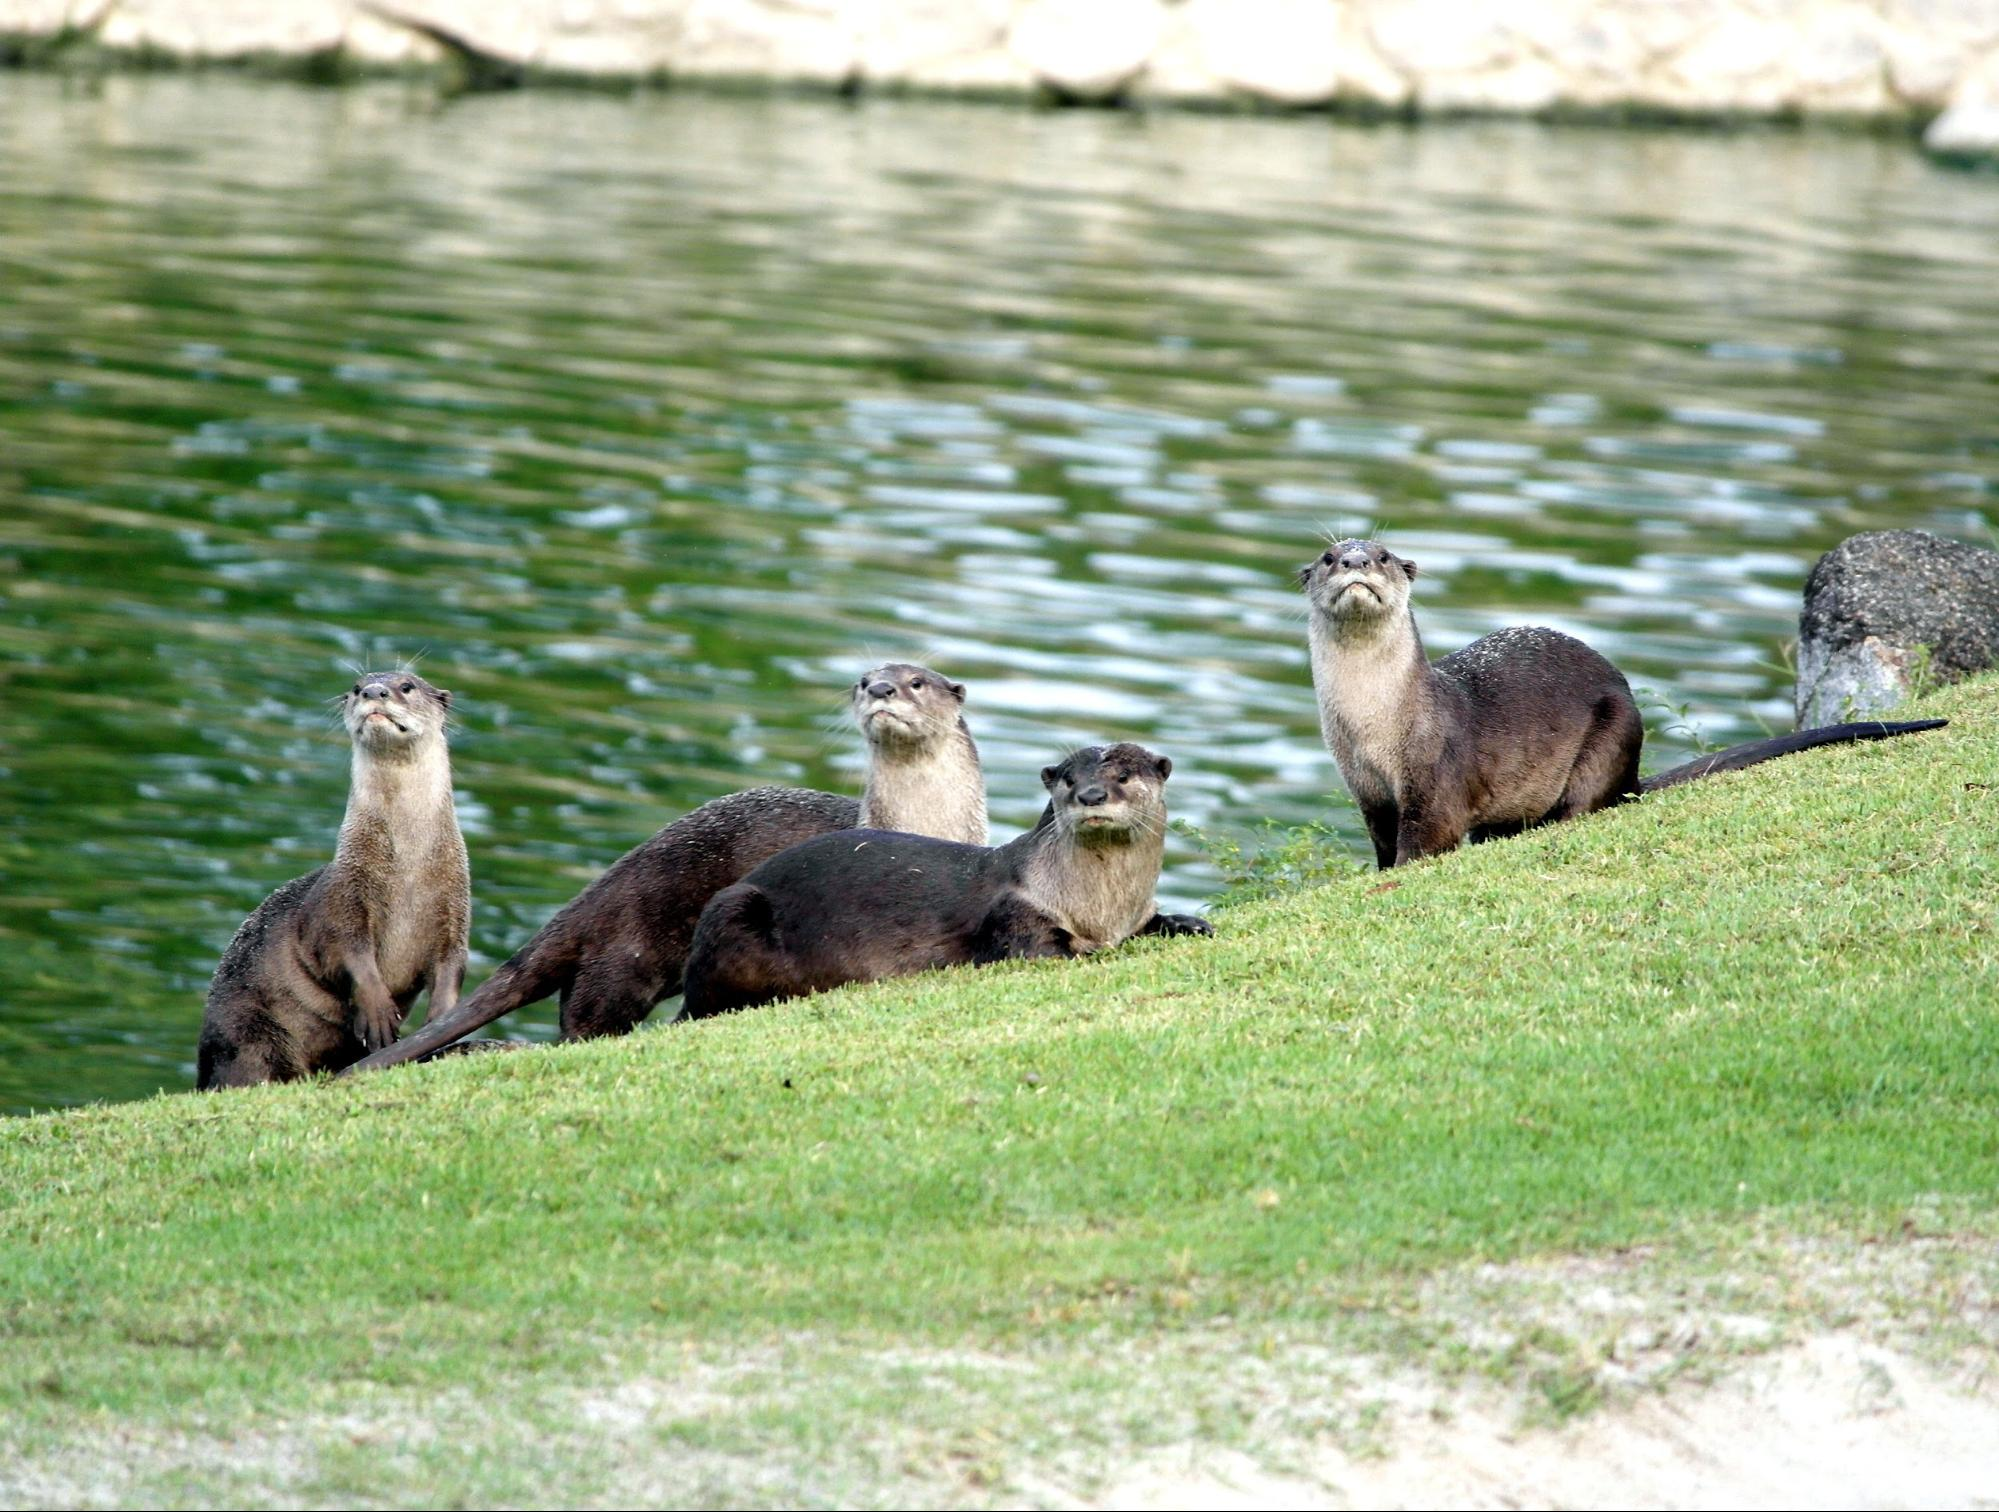otter: (1283, 521, 1762, 886), (676, 723, 1216, 1007), (179, 664, 495, 1080)
